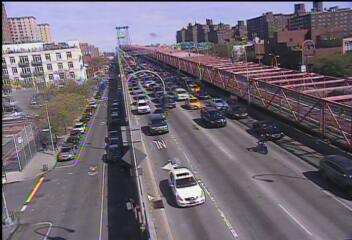neg: (52, 220, 65, 237), (35, 162, 46, 176), (85, 162, 96, 176), (35, 65, 43, 76)
pos: (37, 139, 49, 154), (52, 141, 60, 151)
